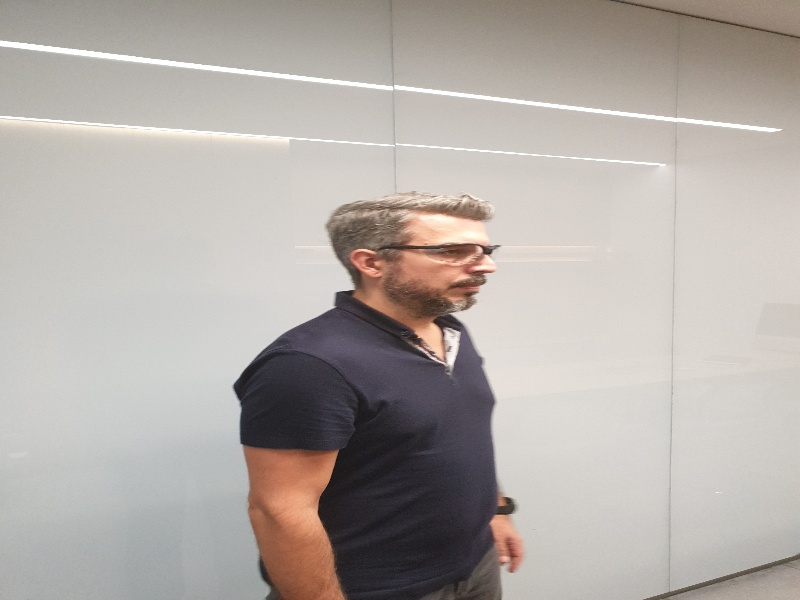Gozluk: (379, 241, 503, 262)
